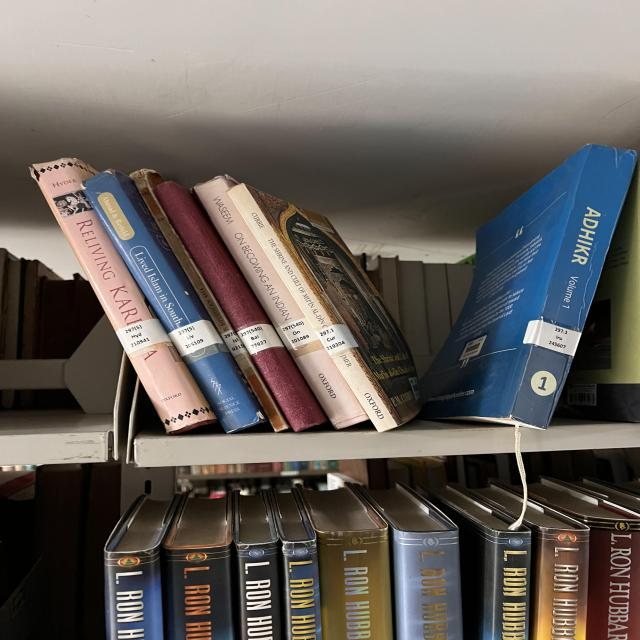Book: (420, 145, 637, 429), (30, 158, 217, 432), (228, 184, 420, 431), (83, 170, 262, 431), (195, 176, 368, 429), (153, 181, 327, 431), (130, 169, 290, 431), (420, 484, 532, 640), (353, 484, 463, 640), (295, 485, 393, 640), (105, 496, 178, 640), (163, 495, 235, 640), (523, 501, 590, 640), (270, 489, 322, 640), (233, 490, 282, 640), (587, 528, 640, 640), (468, 481, 522, 516)
Label: (523, 320, 582, 356), (115, 319, 170, 355), (168, 320, 223, 356), (238, 324, 283, 355), (277, 318, 318, 350), (317, 324, 358, 355), (220, 330, 247, 356)
